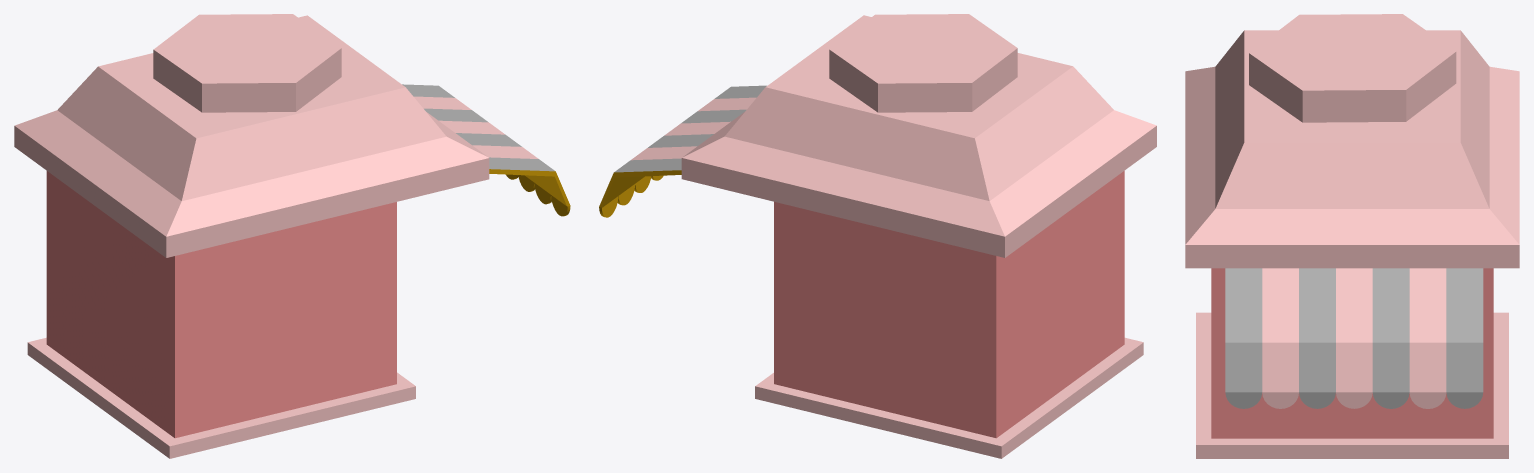
The model's file is TicketShop.fbx.
3 renders of one model, left to right at view 1: azimuth 30°, elevation 25°; view 2: azimuth 150°, elevation 25°; view 3: azimuth 270°, elevation 25°, orthographic. The views are drawn at different scales.
Visible parts, largest first — view 1: Group1; view 2: Group1; view 3: Group1.
Boxes of the visible parts, x1,y1,x2,y2 form: Group1: (14,14,570,458); Group1: (599,14,1156,458); Group1: (1185,14,1519,458).
Bounding box in the file's own units: 4.56 × 3.32 × 2.84.
